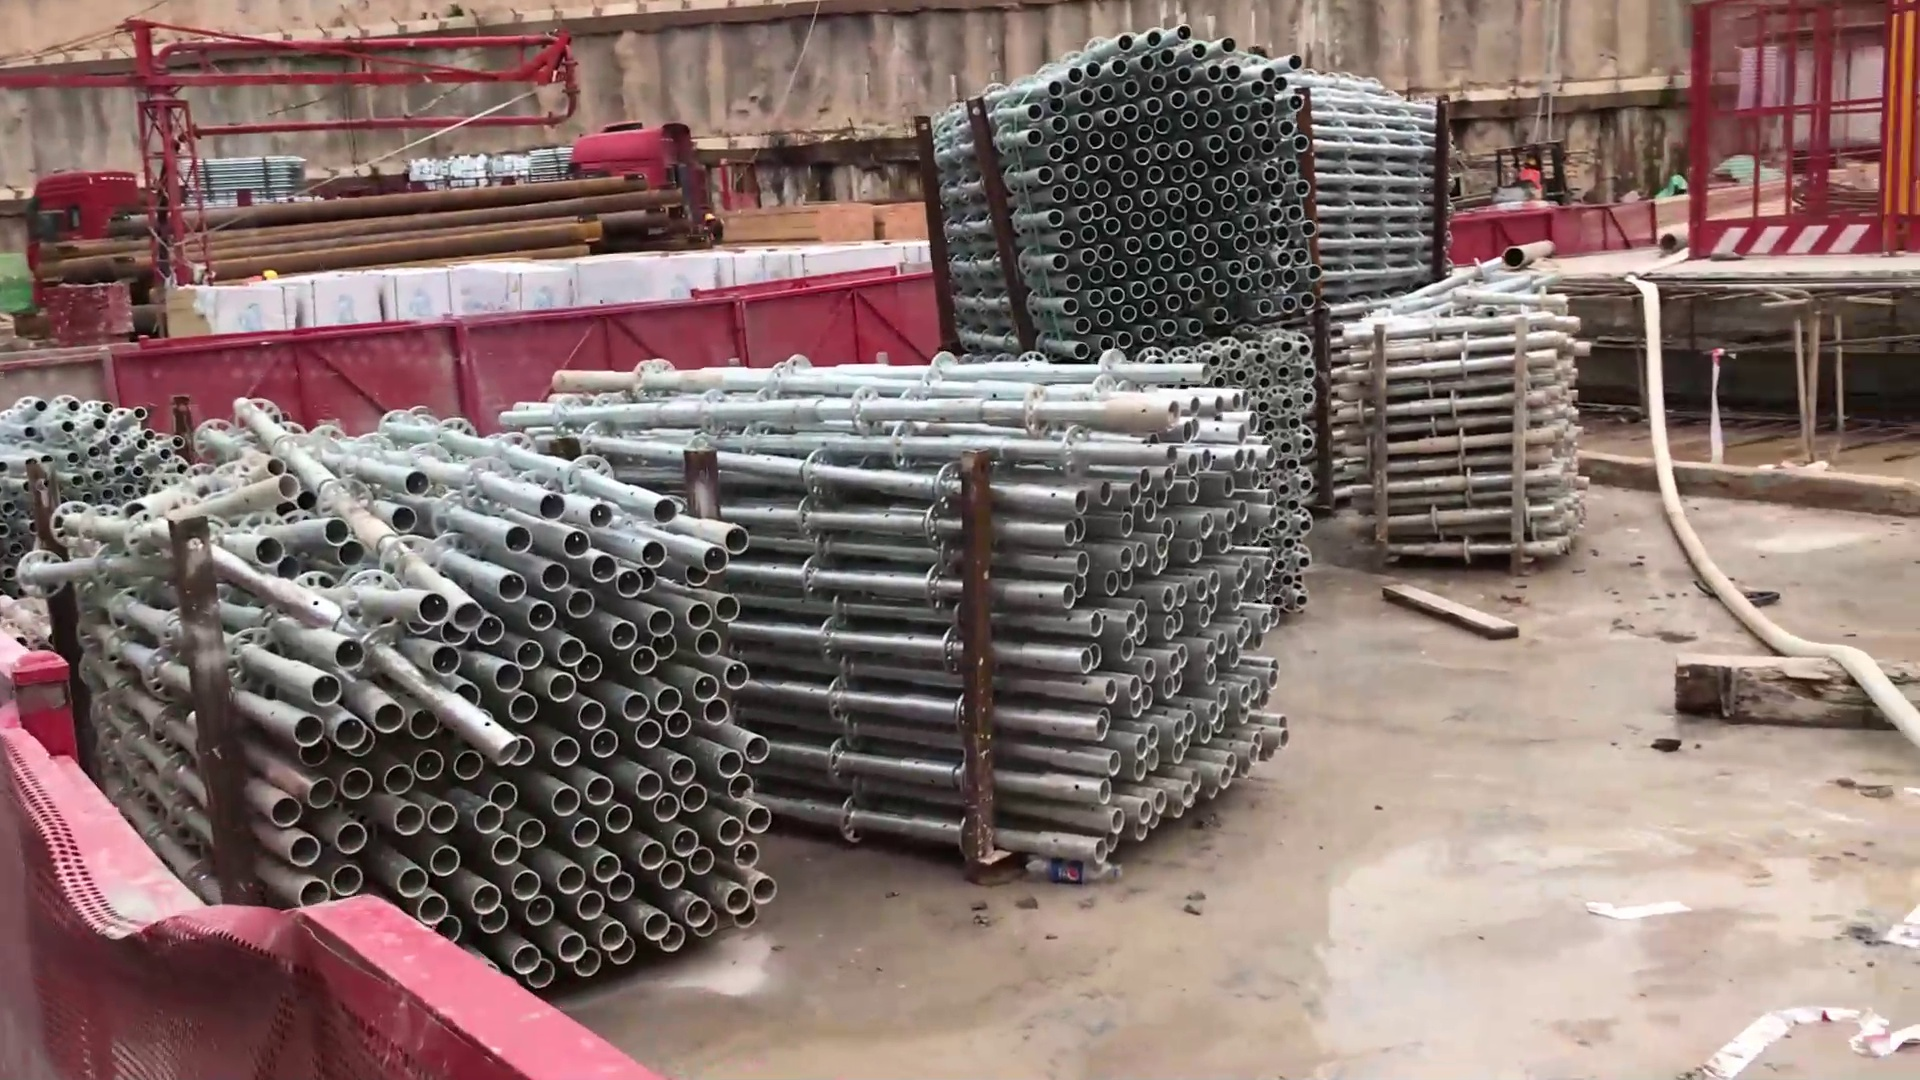fence: (36, 774, 355, 1080), (1688, 1, 1898, 266)
scaffold: (1, 372, 793, 993), (654, 355, 1323, 862), (947, 20, 1477, 356), (1346, 265, 1607, 579)
wood: (729, 193, 936, 257)
